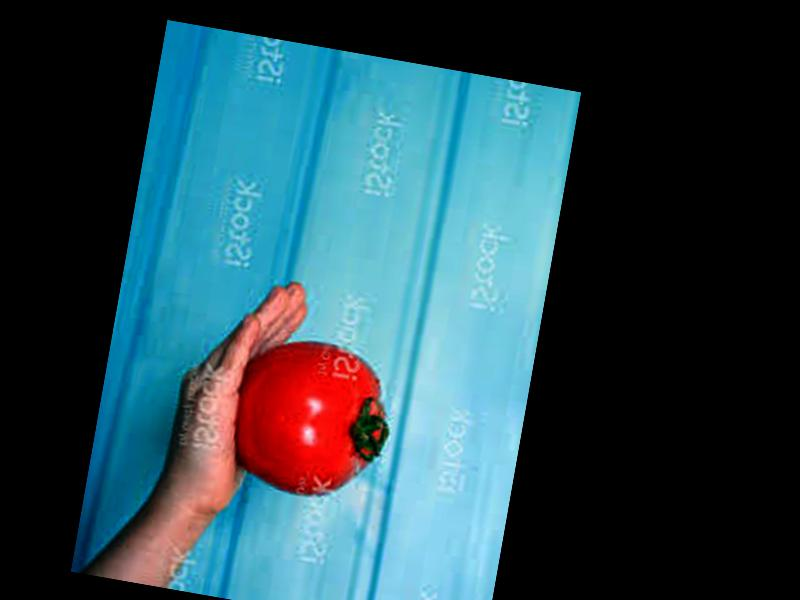Tomato: (224, 329, 399, 504)
